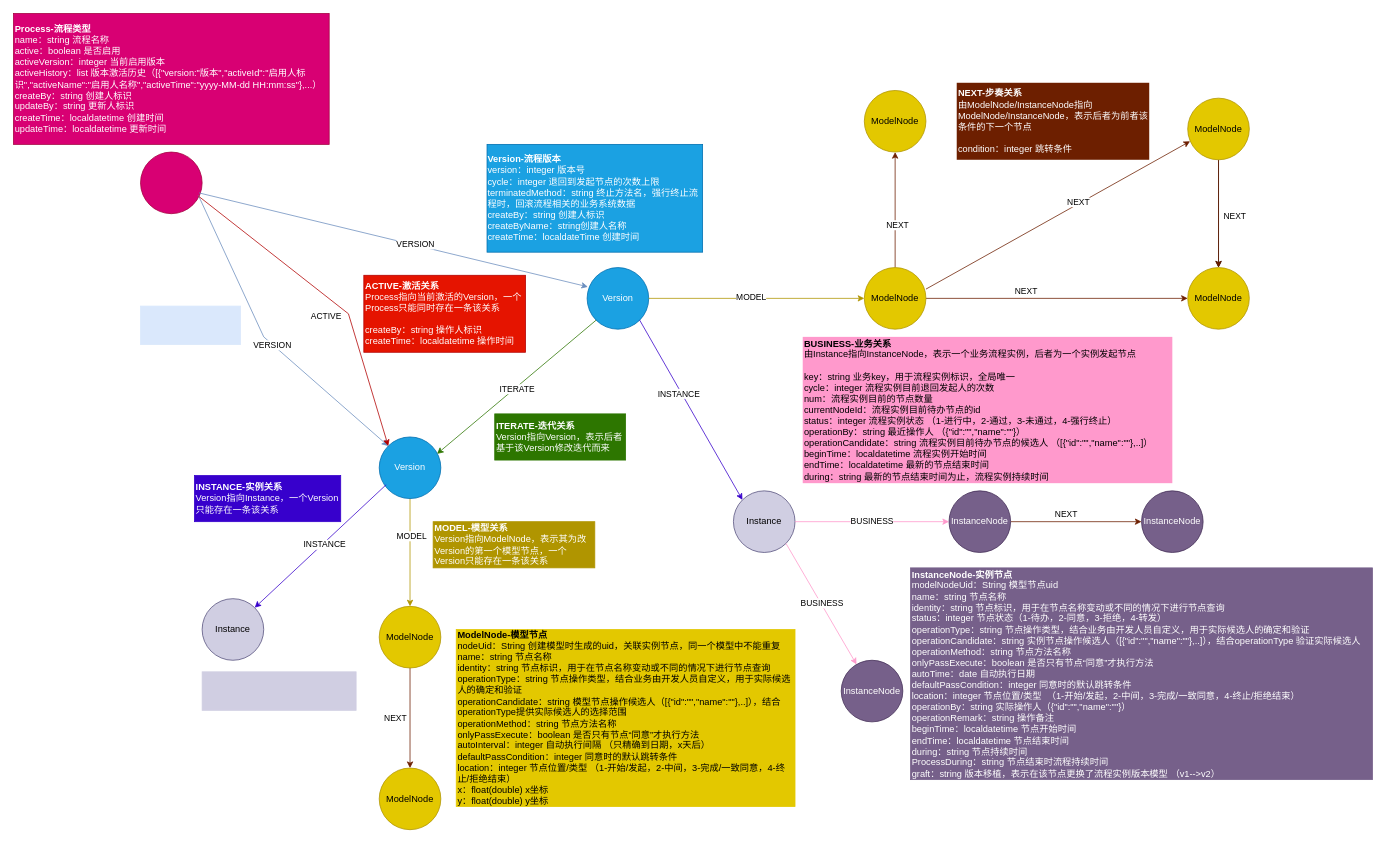
This 1386x843 diagram has some shape labels left out. The shapes that lost their labels are listed below. From the top down, each one's centre as x and y in pixels, then its label:
(x=171, y=182): Process
(x=190, y=325): VERSION-版本关系 Process指向Version，表示流程下的版本
(x=278, y=690): Instance-流程实例 解耦Version和InstanceNode，避免Version成为超级节点
